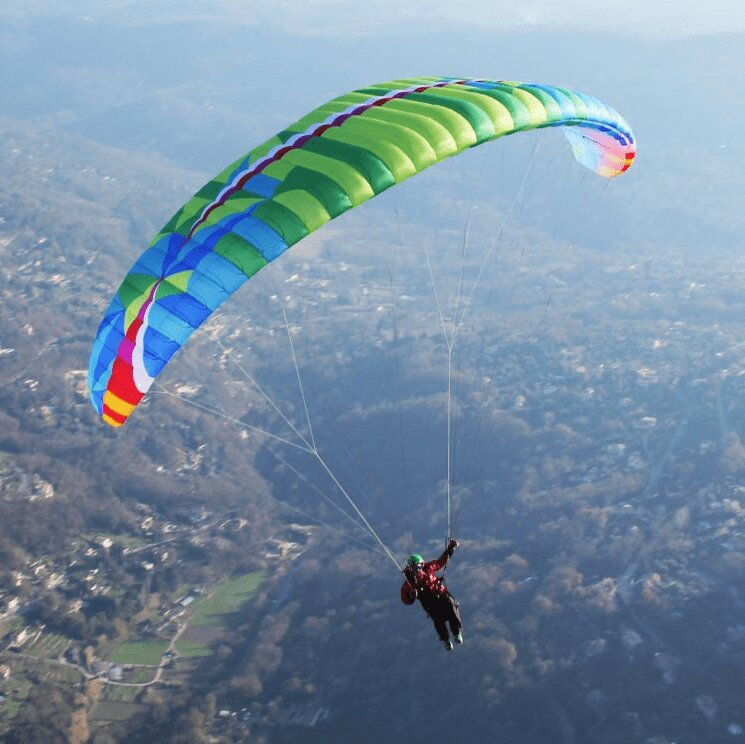Paraglider: (73, 79, 650, 449)
